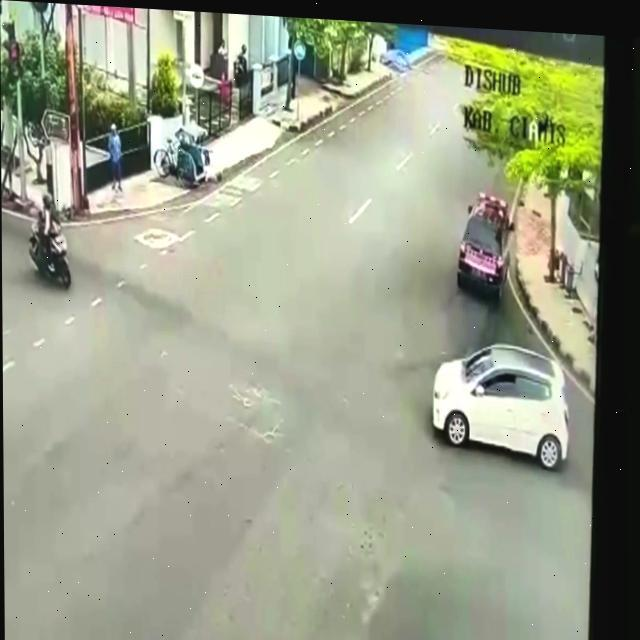normal: (414, 334, 576, 487)
